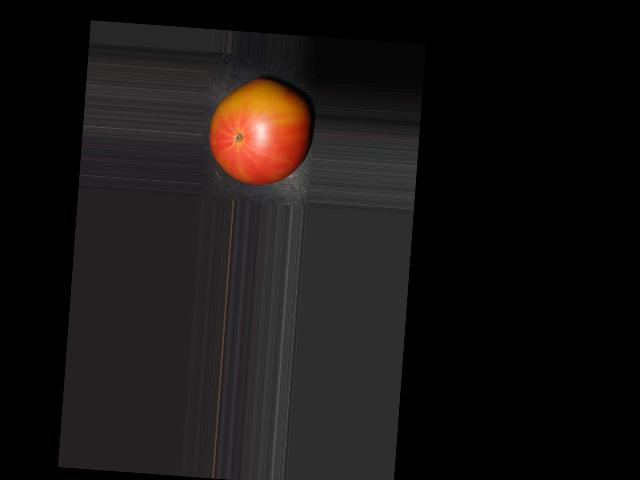tomato: (206, 76, 314, 187)
